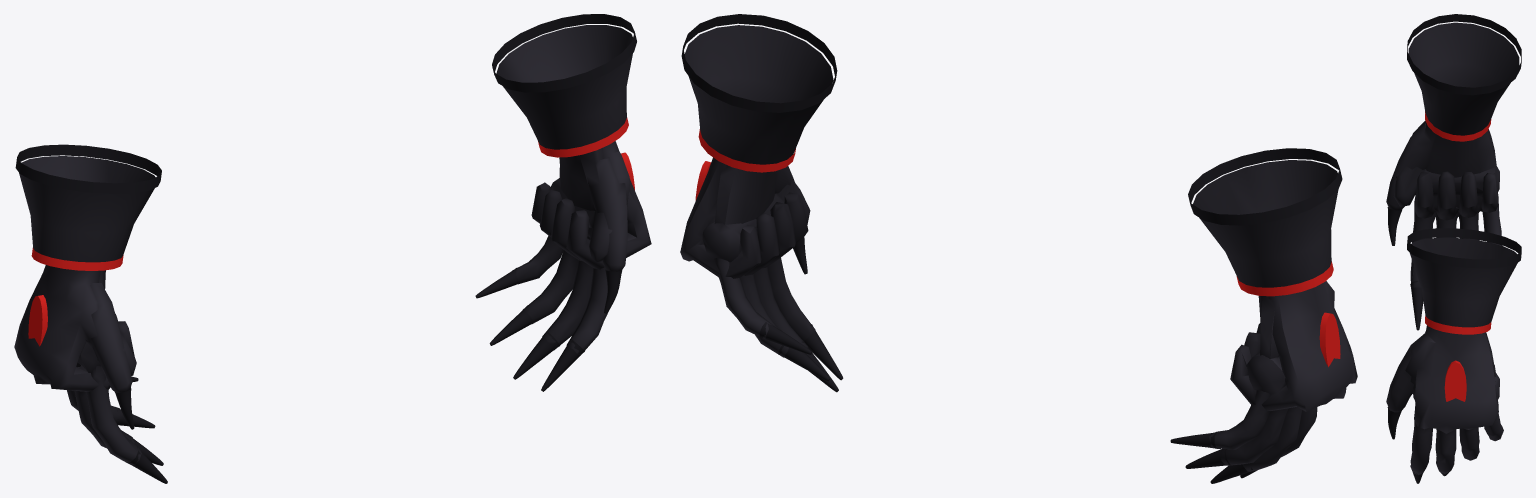
File: g_emberscale_f.glb
3 renders of one model, left to right at view 1: azimuth 30°, elevation 25°; view 2: azimuth 150°, elevation 25°; view 3: azimuth 270°, elevation 25°, orthographic. The views are drawn at different scales.
Parts seen in each view (by area): view 1: ArmL_Gauntlet, ArmR_Gauntlet, ArmL_HandOpen, ArmR_Hand, ArmR_HandOpen, ArmL_Hand; view 2: ArmL_Gauntlet, ArmR_Gauntlet, ArmR_Hand, ArmL_HandOpen, ArmL_Hand, ArmR_HandOpen; view 3: ArmR_Gauntlet, ArmL_Gauntlet, ArmL_Hand, ArmR_HandOpen, ArmR_Hand, ArmL_HandOpen.
Boxes of the visible parts, x1,y1,x2,y2 form: ArmL_Gauntlet: (492, 14, 636, 157); ArmR_Gauntlet: (15, 144, 161, 270); ArmL_HandOpen: (475, 147, 627, 391); ArmR_Hand: (14, 265, 136, 391); ArmR_HandOpen: (67, 270, 167, 483); ArmL_Hand: (531, 141, 651, 269); ArmL_Gauntlet: (681, 14, 837, 172); ArmR_Gauntlet: (1188, 148, 1342, 296); ArmR_Hand: (1230, 281, 1357, 411); ArmL_HandOpen: (714, 165, 843, 392); ArmL_Hand: (680, 157, 810, 278); ArmR_HandOpen: (1170, 296, 1317, 483); ArmR_Gauntlet: (1407, 14, 1521, 141); ArmL_Gauntlet: (1407, 228, 1521, 334); ArmL_Hand: (1405, 325, 1499, 433); ArmR_HandOpen: (1386, 123, 1502, 330); ArmR_Hand: (1393, 120, 1499, 220); ArmL_HandOpen: (1386, 326, 1503, 483).
Size of the model in its own units: 0.5902 by 0.3031 by 0.137.
